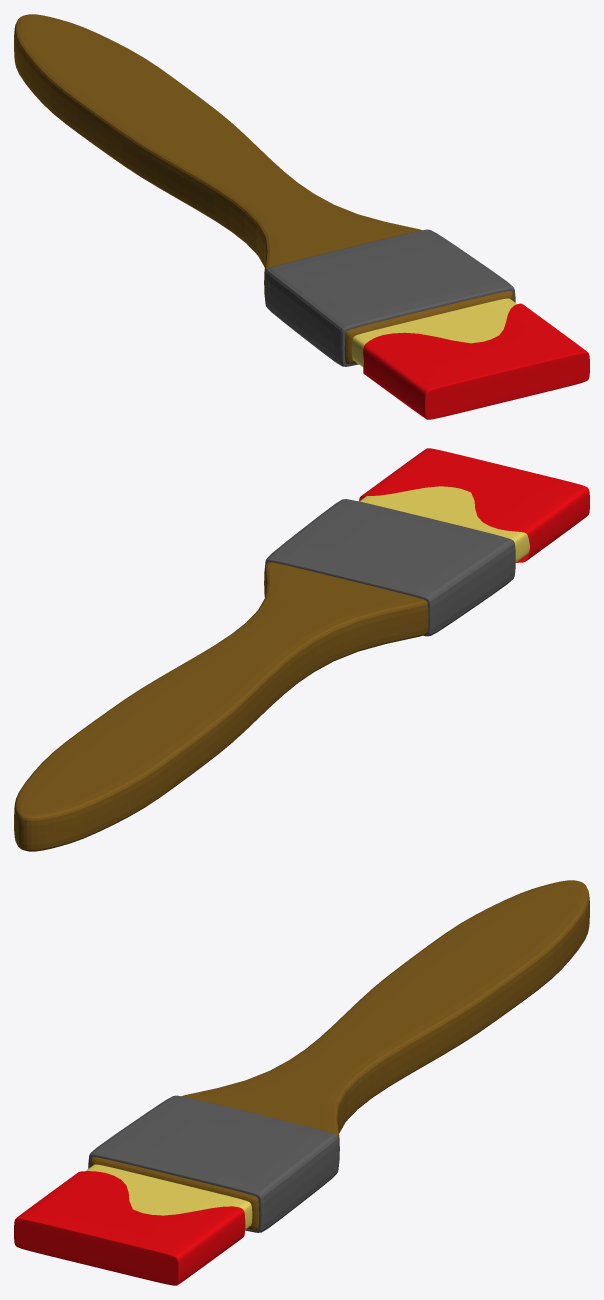
Rendered from pinceau_plus_pot.fbx.
3 views of the same model, one above another, from view 1: azimuth 30°, elevation 25°; view 2: azimuth 150°, elevation 25°; view 3: azimuth 330°, elevation 25° (orthographic).
Parts seen in each view (by area): view 1: Bois_pinceau, Metal_pinceau, Brush_pinceau_peinture, Brush_pinceau; view 2: Bois_pinceau, Metal_pinceau, Brush_pinceau_peinture, Brush_pinceau; view 3: Bois_pinceau, Metal_pinceau, Brush_pinceau_peinture, Brush_pinceau.
Part boxes in pixels (box(x1,y1,x2,y2)): Bois_pinceau: box(14, 14, 513, 364); Metal_pinceau: box(264, 229, 515, 366); Brush_pinceau_peinture: box(363, 303, 589, 419); Brush_pinceau: box(351, 298, 516, 366); Bois_pinceau: box(14, 562, 428, 851); Metal_pinceau: box(265, 499, 515, 636); Brush_pinceau_peinture: box(359, 448, 589, 562); Brush_pinceau: box(359, 486, 529, 562); Bois_pinceau: box(90, 880, 589, 1230); Metal_pinceau: box(88, 1095, 339, 1232); Brush_pinceau_peinture: box(14, 1171, 245, 1285); Brush_pinceau: box(85, 1164, 252, 1229).
Size of the model in its own units: 12.71 by 3.03 by 60.61.
